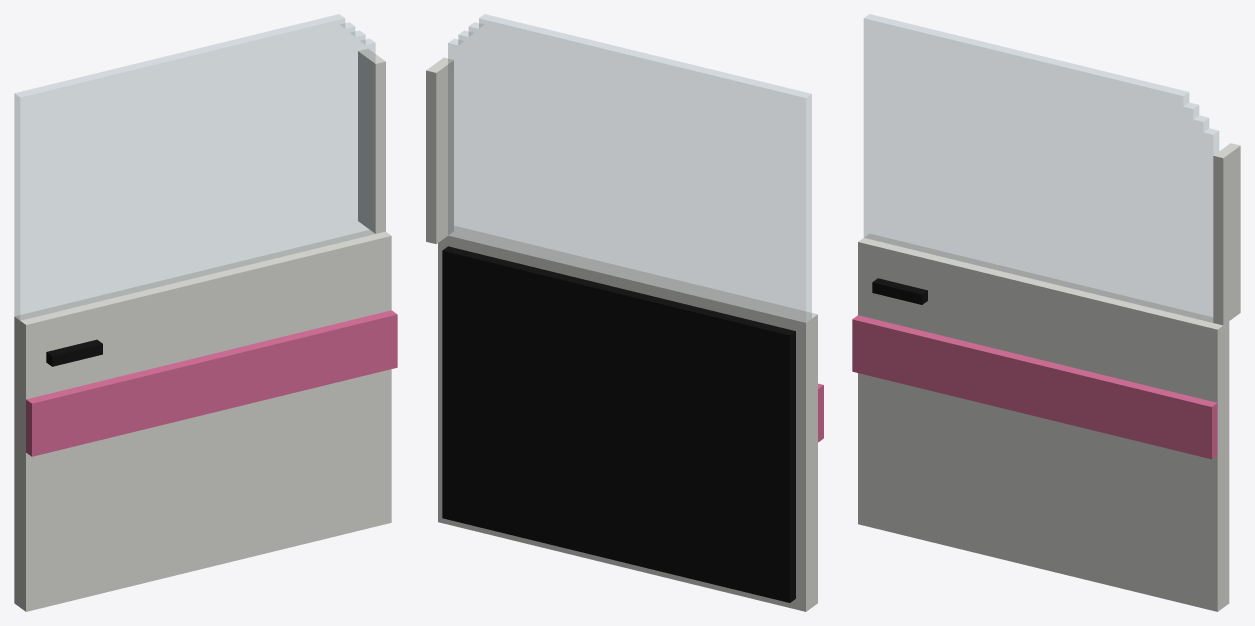
File: ice_cream_van_front_door.glb
The picture shows the model from 3 angles, left to right: view 1: azimuth 30°, elevation 25°; view 2: azimuth 150°, elevation 25°; view 3: azimuth 330°, elevation 25°; orthographic projection. The views are drawn at different scales.
Parts seen in each view (by area): view 1: body:compound; view 2: body:compound; view 3: body:compound.
Part boxes in pixels (bbox=[...]): body:compound: bbox=[14, 14, 397, 611]; body:compound: bbox=[426, 14, 823, 611]; body:compound: bbox=[852, 14, 1240, 611].
Bounding box in the file's own units: 1.12 × 1.5 × 0.1562.
